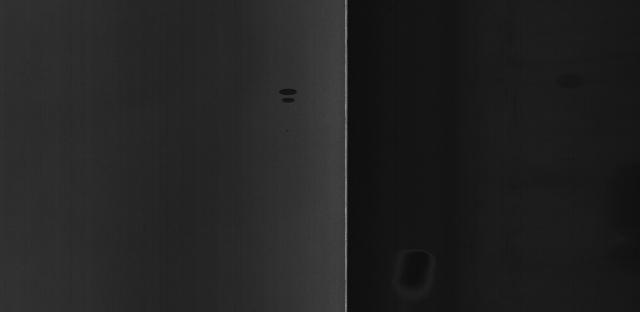oil_spot: (265, 78, 313, 107)
